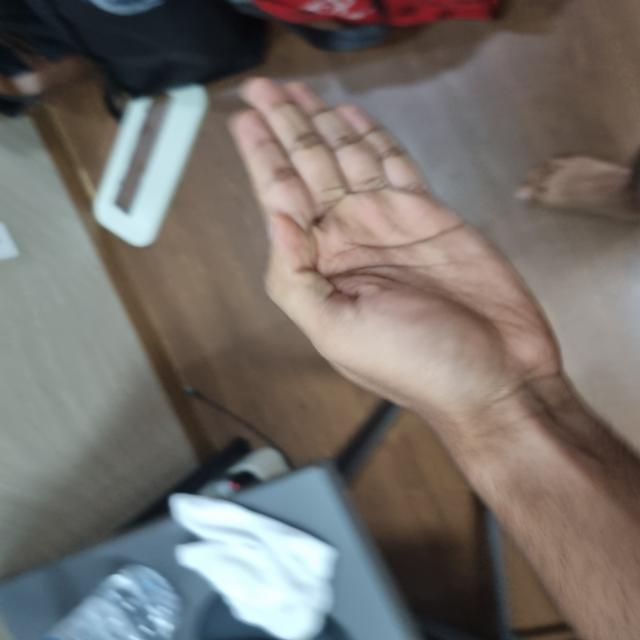Paper: (223, 231, 560, 553)
